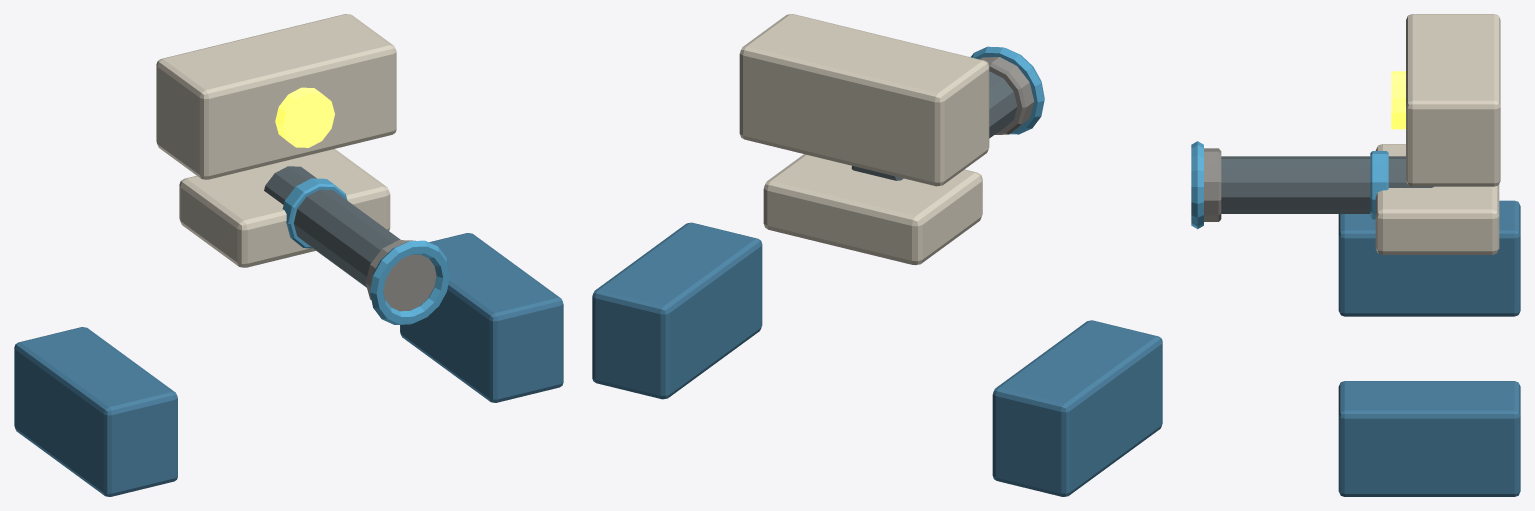
The model's file is hq_hero_balanced.glb.
3 renders of one model, left to right at view 1: azimuth 30°, elevation 25°; view 2: azimuth 150°, elevation 25°; view 3: azimuth 270°, elevation 25°, orthographic. The views are drawn at different scales.
Visible parts, largest first — view 1: Balanced_CommandCrest, Balanced_Shoulder_L, Balanced_Shoulder_R, Balanced_TurretMount, Balanced_Cannon, Balanced_MuzzleRing, Balanced_CrestCore, Balanced_Muzzle, Balanced_CannonBand; view 2: Balanced_CommandCrest, Balanced_Shoulder_R, Balanced_Shoulder_L, Balanced_TurretMount, Balanced_Cannon, Balanced_Muzzle, Balanced_MuzzleRing; view 3: Balanced_Shoulder_R, Balanced_CommandCrest, Balanced_Shoulder_L, Balanced_Cannon, Balanced_TurretMount, Balanced_Muzzle, Balanced_MuzzleRing, Balanced_CannonBand, Balanced_CrestCore.
Part boxes in pixels (x1,y1,x2,y2): Balanced_CommandCrest: (156, 14, 396, 179); Balanced_Shoulder_L: (14, 327, 177, 496); Balanced_Shoulder_R: (400, 233, 563, 402); Balanced_TurretMount: (179, 149, 390, 267); Balanced_Cannon: (264, 166, 400, 287); Balanced_MuzzleRing: (370, 240, 449, 324); Balanced_CrestCore: (275, 87, 334, 147); Balanced_Muzzle: (365, 240, 436, 311); Balanced_CannonBand: (282, 178, 347, 248); Balanced_CommandCrest: (739, 14, 989, 186); Balanced_Shoulder_R: (592, 222, 762, 399); Balanced_Shoulder_L: (992, 320, 1162, 496); Balanced_TurretMount: (763, 154, 982, 265); Balanced_Cannon: (851, 71, 1017, 180); Balanced_Muzzle: (980, 57, 1034, 134); Balanced_MuzzleRing: (971, 46, 1044, 134); Balanced_Shoulder_R: (1338, 381, 1520, 496); Balanced_CommandCrest: (1406, 14, 1500, 186); Balanced_Shoulder_L: (1338, 200, 1520, 316); Balanced_Cannon: (1221, 156, 1433, 213); Balanced_TurretMount: (1375, 144, 1499, 254); Balanced_Muzzle: (1204, 148, 1221, 221); Balanced_MuzzleRing: (1191, 141, 1203, 229); Balanced_CannonBand: (1370, 151, 1388, 219); Balanced_CrestCore: (1391, 71, 1405, 129).
Size of the model in its own units: 3.86 by 2.8 by 2.5.
